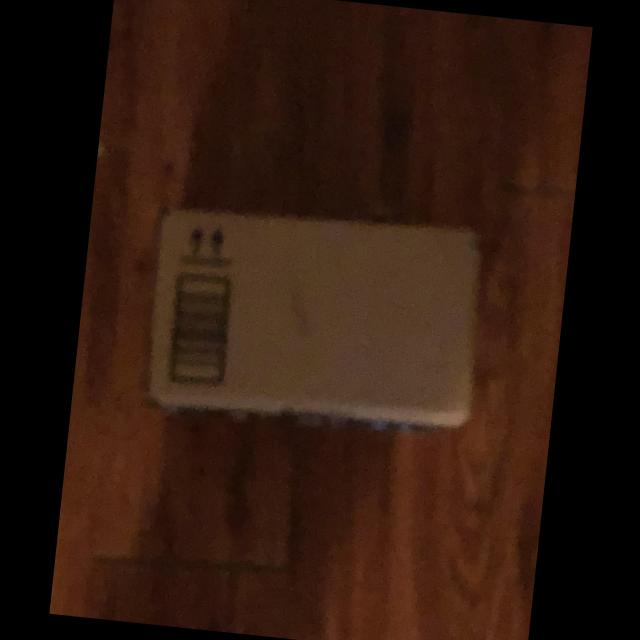box: (138, 195, 496, 454)
